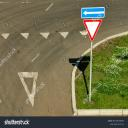preferencia: (82, 18, 102, 44)
